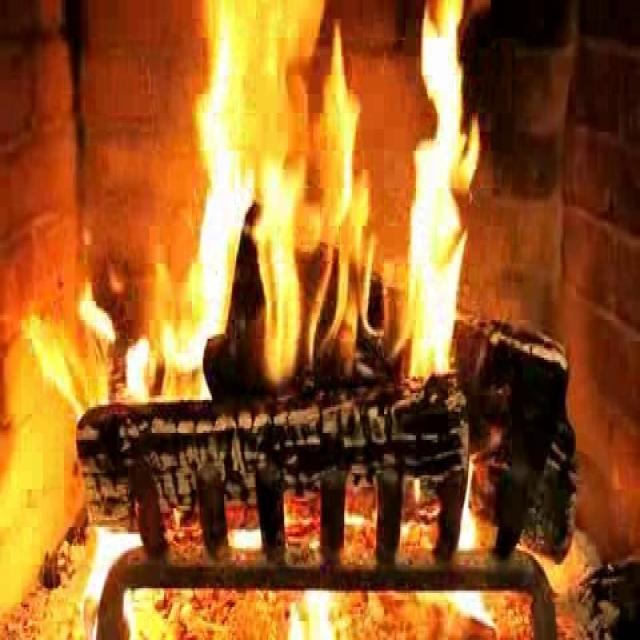Fire: (32, 0, 640, 607)
